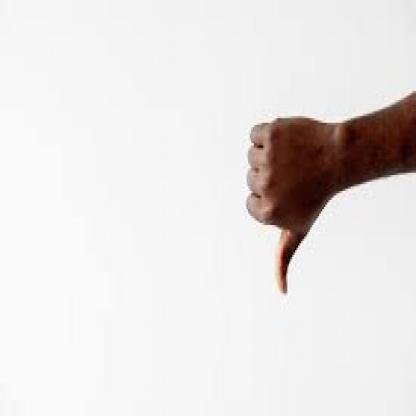thumb_down: (243, 113, 329, 300)
